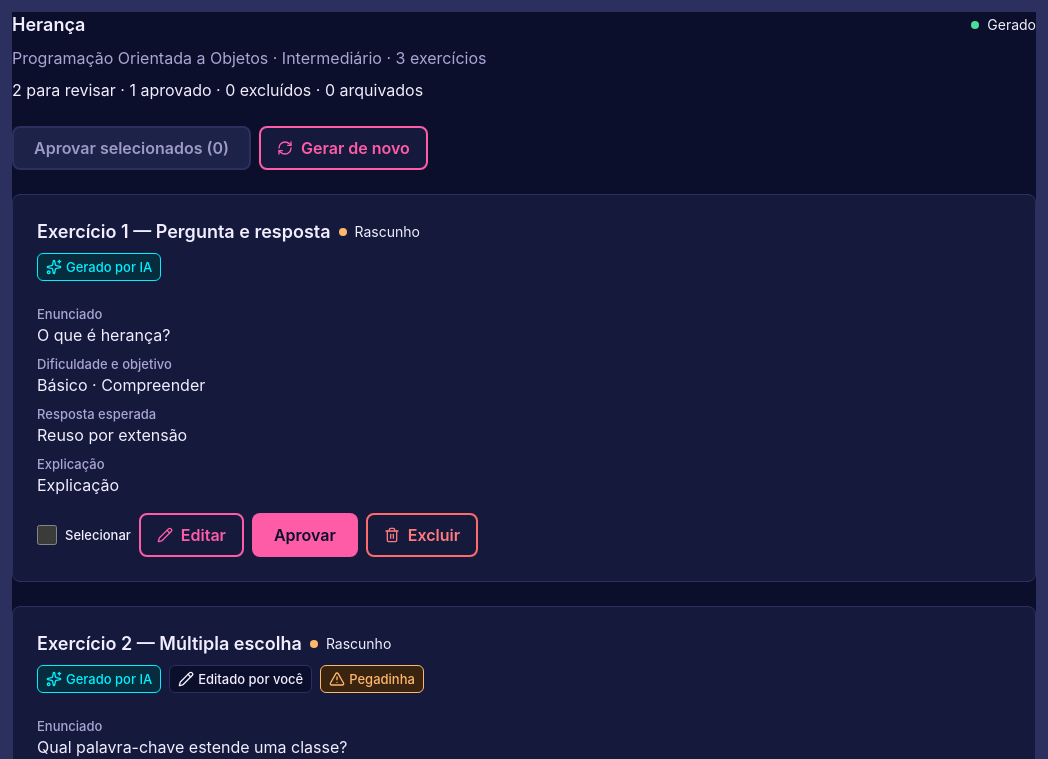
Test: 010/US4 BatchReview — revisar o lote gerado › 010/US4-1 aprova um rascunho com a versão que leu
Click the button "Aprovar": click(305, 535) [252,513,358,557]
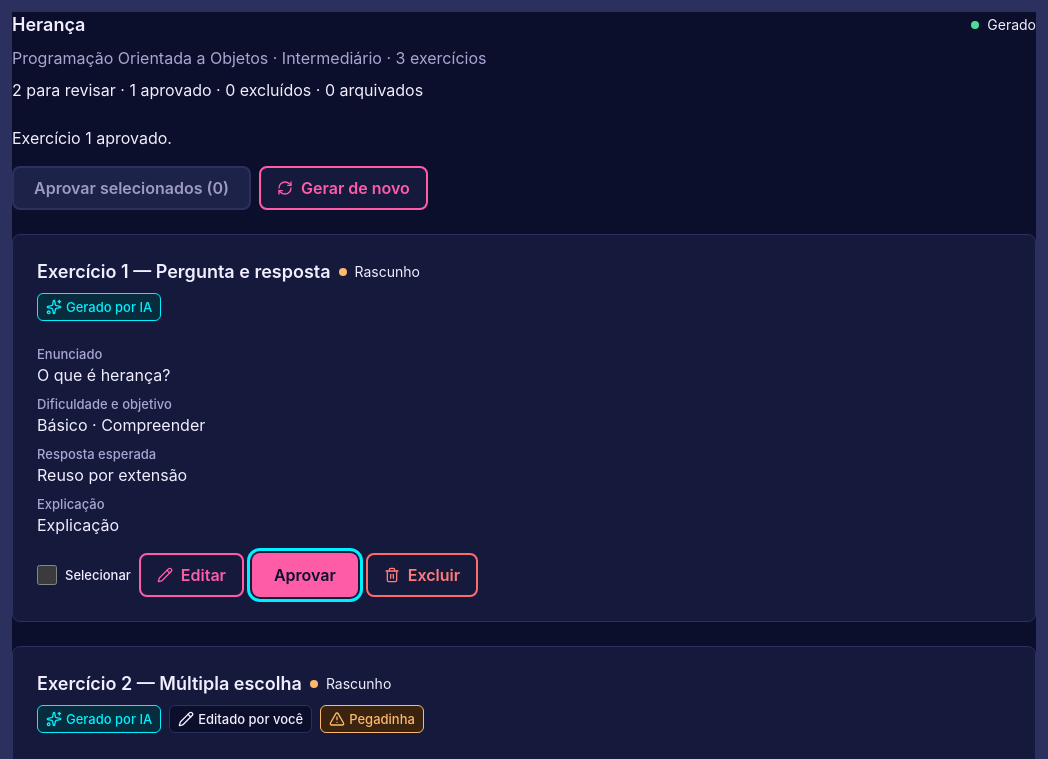
Now the text "Exercício 1 aprovado." is shown, box [12,128,172,148]
